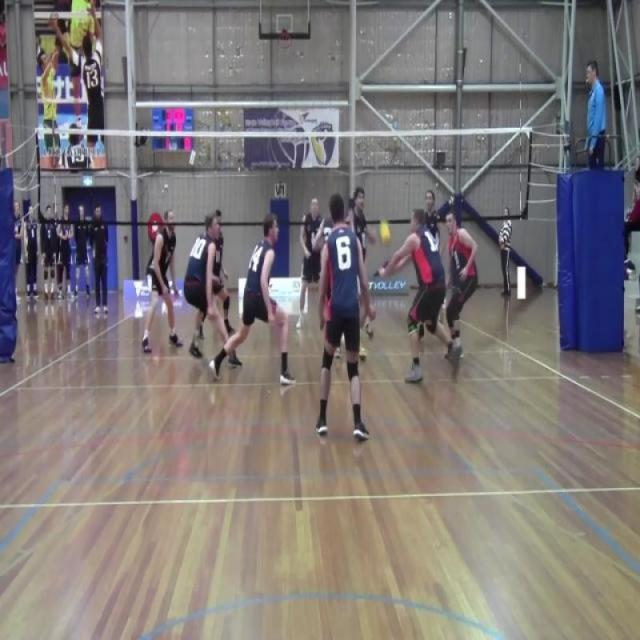volleyball: (378, 217, 393, 251)
